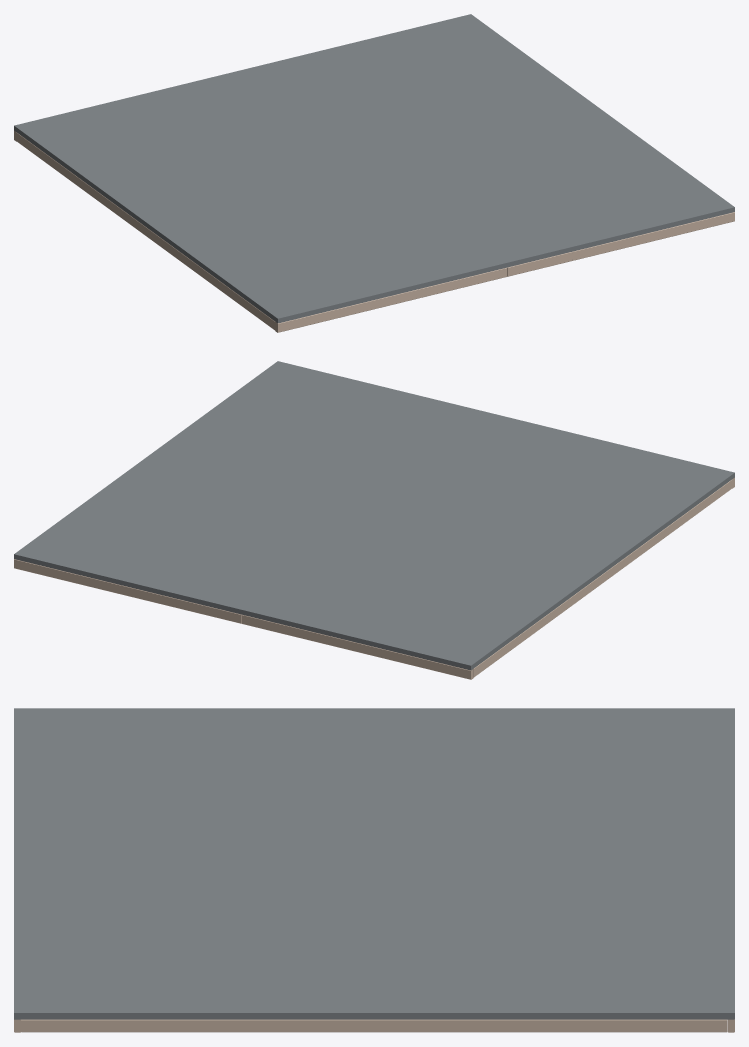
Rendered from Ground.fbx.
3 views of the same model, one above another, from view 1: azimuth 30°, elevation 25°; view 2: azimuth 150°, elevation 25°; view 3: azimuth 270°, elevation 25° (orthographic). The views are drawn at different scales.
Visible parts, largest first — view 1: ground; view 2: ground; view 3: ground.
Boxes of the visible parts, x1,y1,x2,y2 form: ground: (14, 14, 734, 332); ground: (14, 361, 734, 679); ground: (14, 708, 734, 1032).
Size of the model in its own units: 2700 by 81 by 2700.
